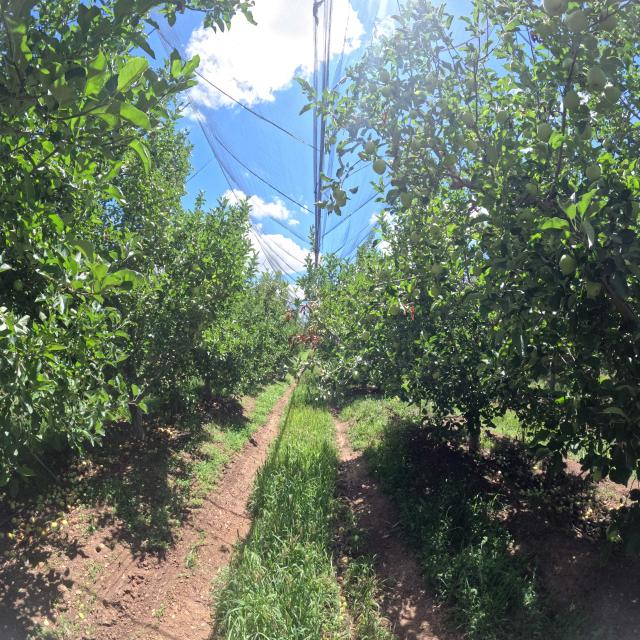-FireBlight-: (287, 325, 321, 351), (403, 297, 416, 320), (282, 304, 297, 322), (299, 305, 306, 314)
